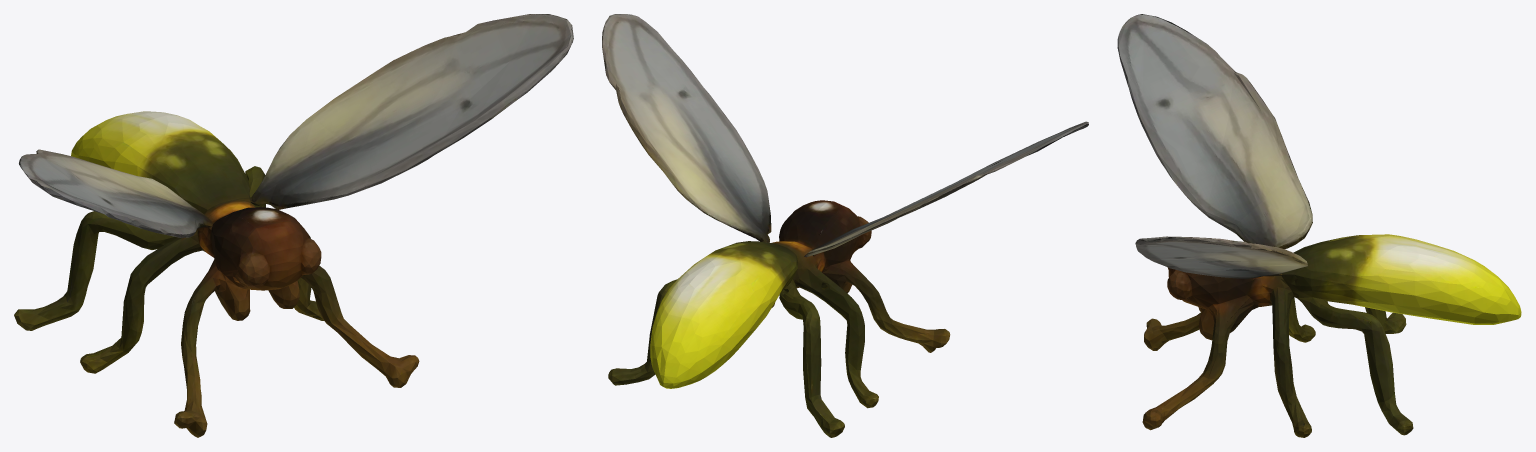
3 renders of one model, left to right at view 1: azimuth 30°, elevation 25°; view 2: azimuth 150°, elevation 25°; view 3: azimuth 270°, elevation 25°, orthographic. The views are drawn at different scales.
Visible parts, largest first — view 1: world; view 2: world; view 3: world.
Boxes of the visible parts, box(x1,y1,x2,y2) form: world: box(14, 14, 573, 437); world: box(602, 14, 1088, 437); world: box(1117, 14, 1521, 437).
Size of the model in its own units: 0.995 by 0.544 by 0.7408.
1 material, 1 textured.
